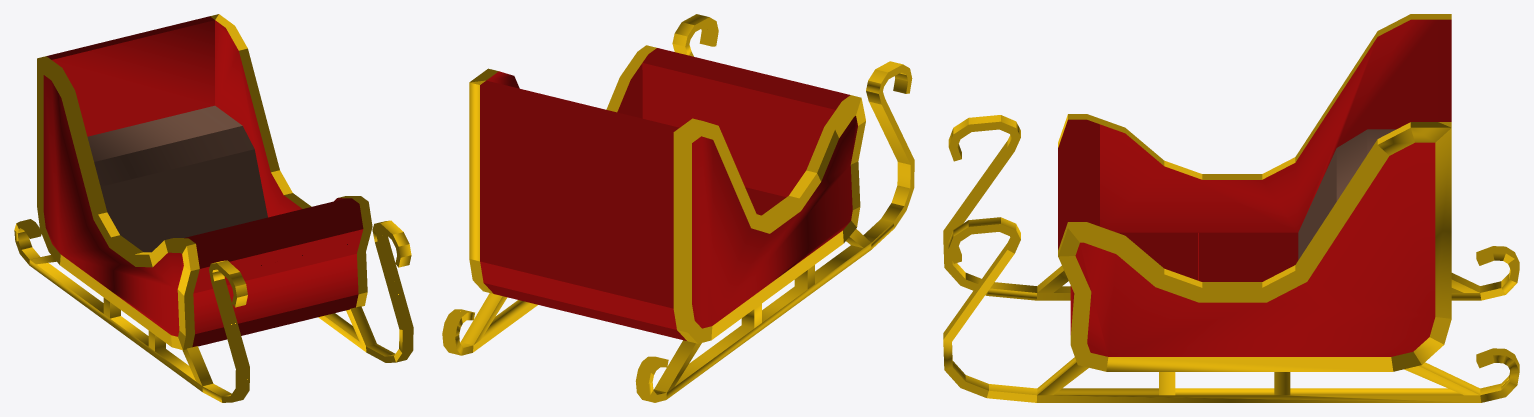
Rendered from Sled.fbx.
3 renders of one model, left to right at view 1: azimuth 30°, elevation 25°; view 2: azimuth 150°, elevation 25°; view 3: azimuth 270°, elevation 25°, orthographic. The views are drawn at different scales.
Parts seen in each view (by area): view 1: Sled; view 2: Sled; view 3: Sled.
Boxes of the visible parts, box(x1,y1,x2,y2) form: Sled: box(14, 14, 413, 402); Sled: box(442, 14, 914, 402); Sled: box(943, 14, 1519, 402).
Bounding box in the file's own units: 111 × 126 × 237.
Materials: 1 (1 with a texture image).
